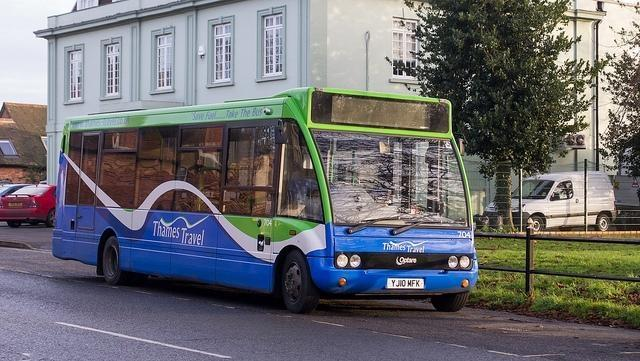bus: (47, 85, 479, 314)
car: (1, 184, 56, 227), (0, 184, 32, 200)
truck: (484, 171, 616, 232)
